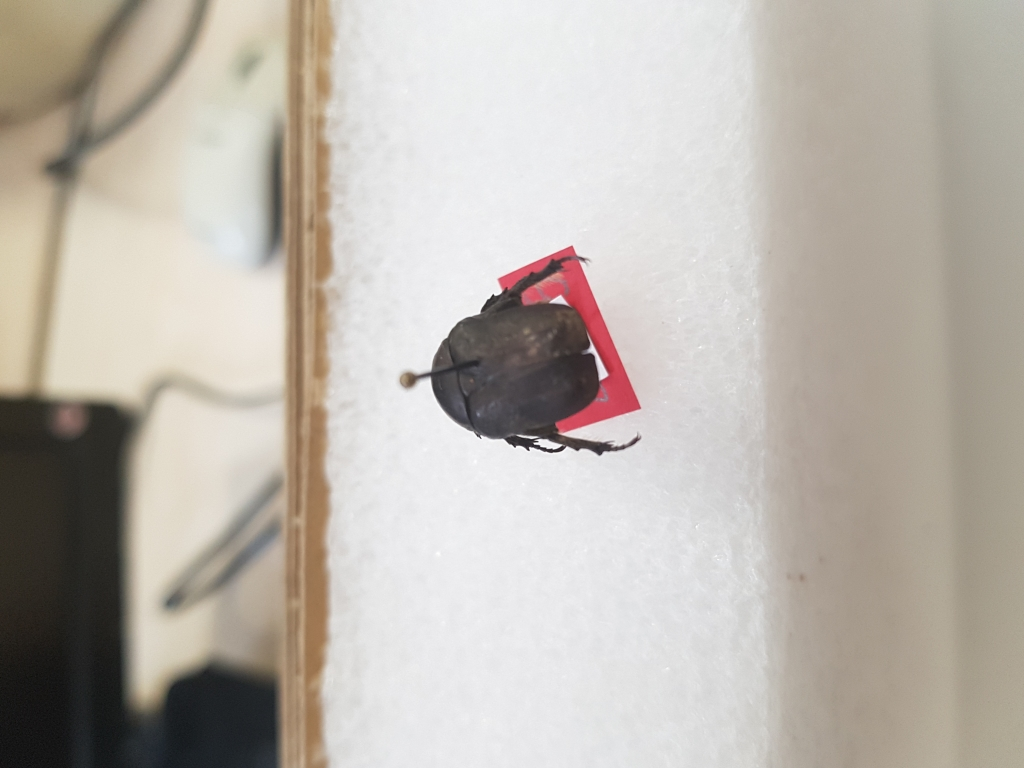Protaetia_asiatica: (408, 238, 652, 474)
